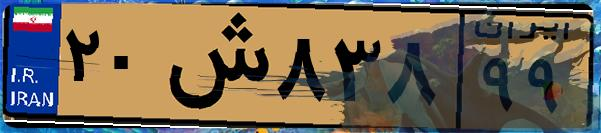0: (110, 28, 158, 98)
2: (57, 26, 110, 100)
3: (330, 28, 385, 110)
8: (270, 28, 330, 110), (385, 28, 445, 110)
9: (475, 38, 525, 113), (525, 38, 570, 115)
ش: (158, 12, 270, 120)
